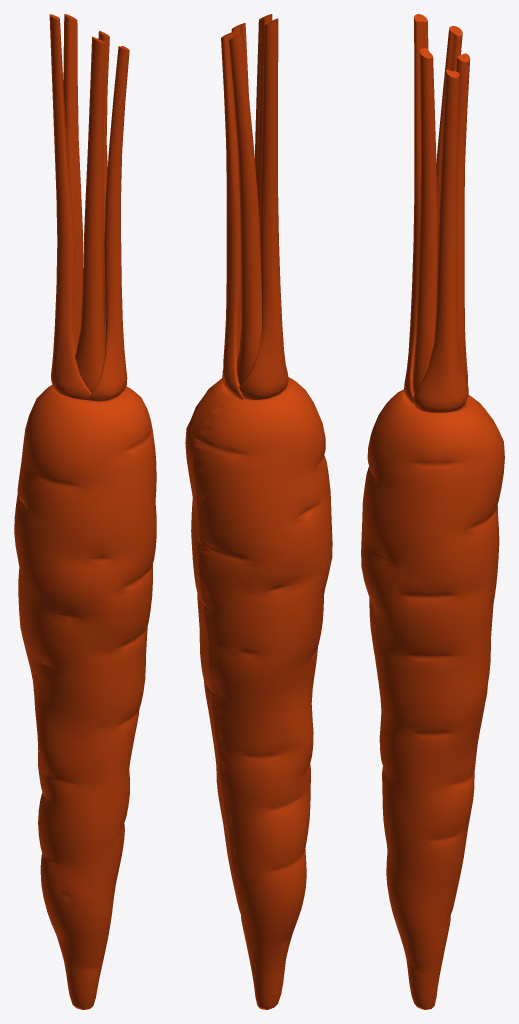
Rendered from Carrot_3.obj.
3 views of the same model, side by side, from view 1: azimuth 30°, elevation 25°; view 2: azimuth 150°, elevation 25°; view 3: azimuth 330°, elevation 25° (orthographic). The views are drawn at different scales.
Visible parts, largest first — view 1: Carrot_01; view 2: Carrot_01; view 3: Carrot_01.
Boxes of the visible parts, x1,y1,x2,y2 form: Carrot_01: [14, 14, 156, 1009]; Carrot_01: [185, 14, 332, 1009]; Carrot_01: [361, 14, 504, 1009].
Size of the model in its own units: 13.21 by 100 by 12.98.
